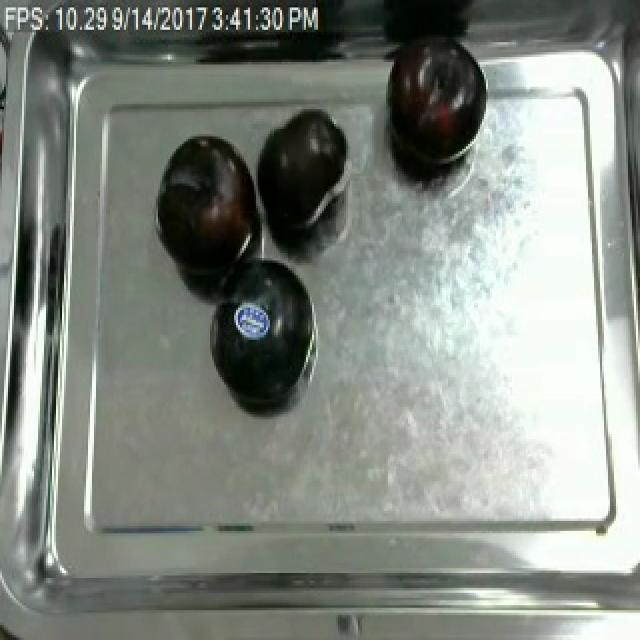Fruit: (208, 248, 318, 412), (152, 129, 264, 280), (378, 32, 490, 176), (248, 99, 356, 238), (374, 0, 482, 42)
